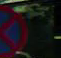No Stopping: (0, 1, 27, 57)
